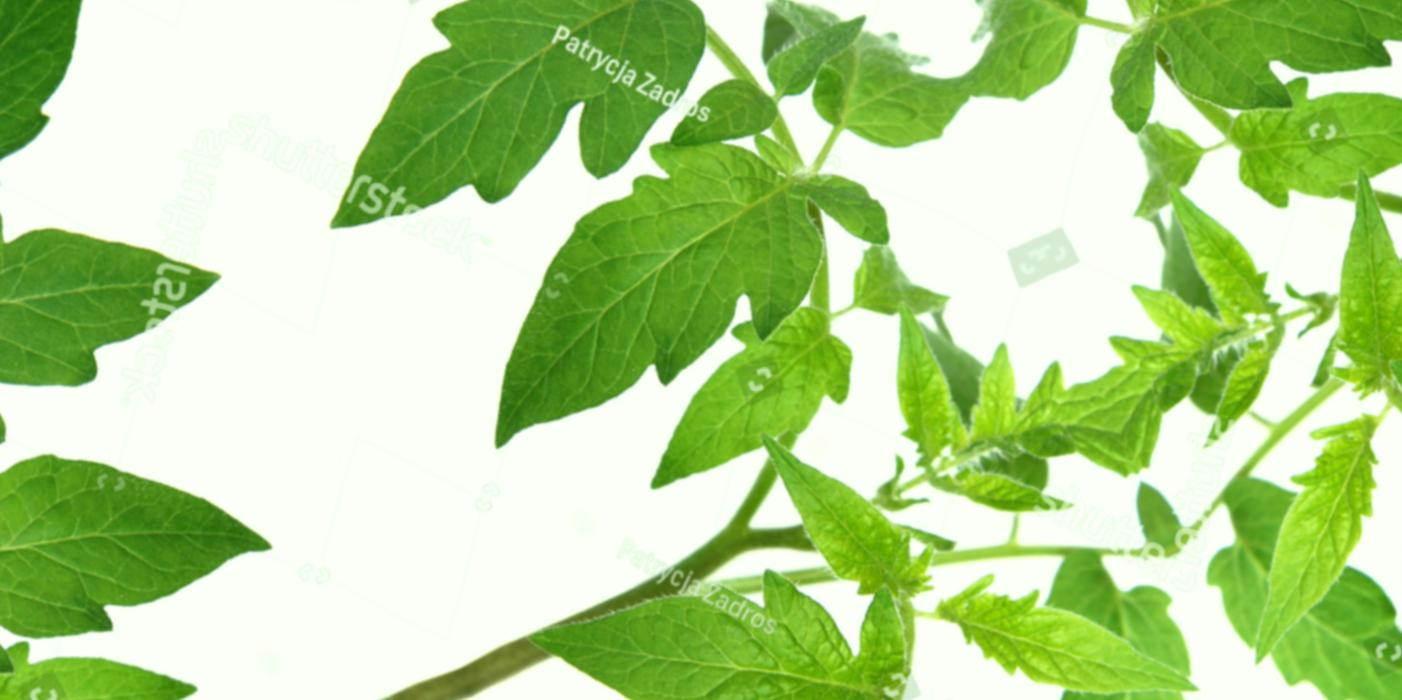Tomato leaf: (380, 96, 923, 515), (210, 0, 781, 391), (848, 316, 1165, 632), (855, 473, 1233, 700), (535, 509, 900, 700), (158, 0, 623, 119), (758, 654, 1132, 700), (533, 693, 974, 700)
